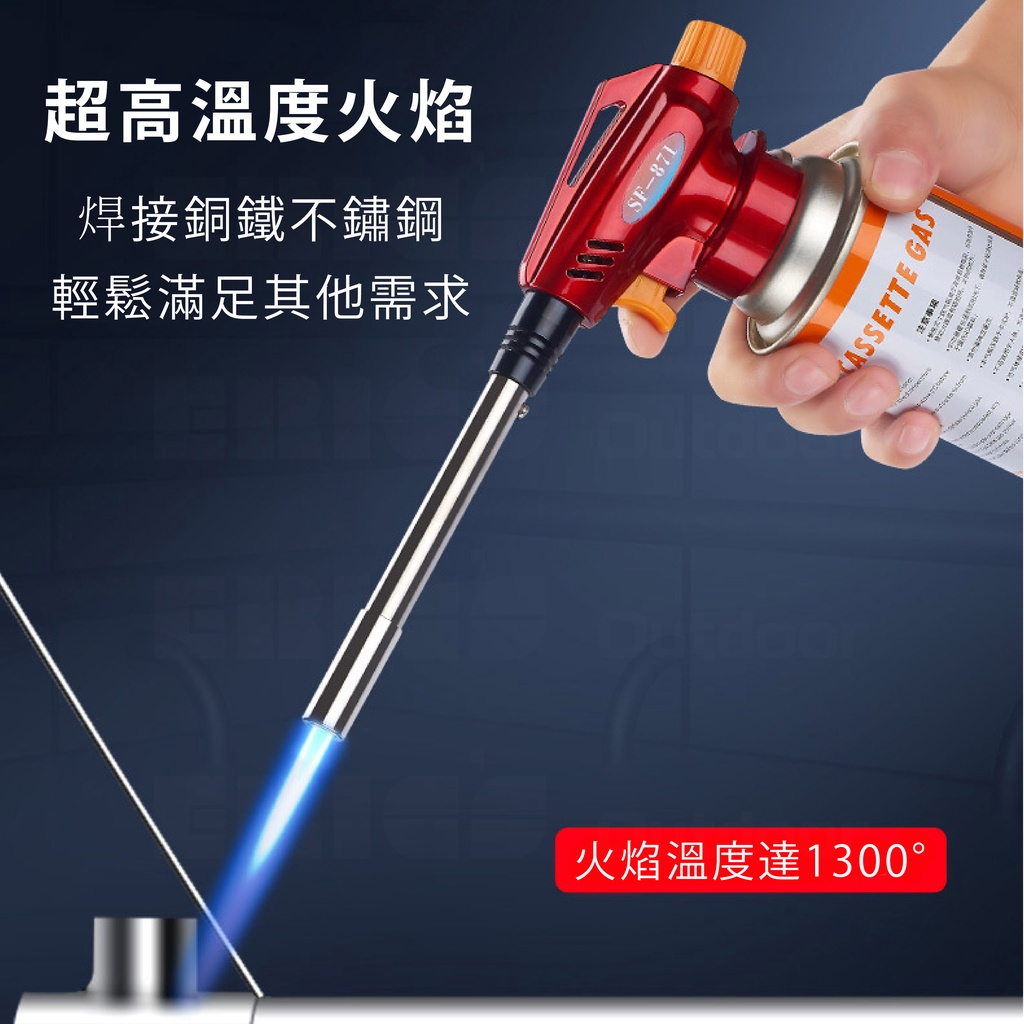gastorch: (272, 30, 1024, 813)
